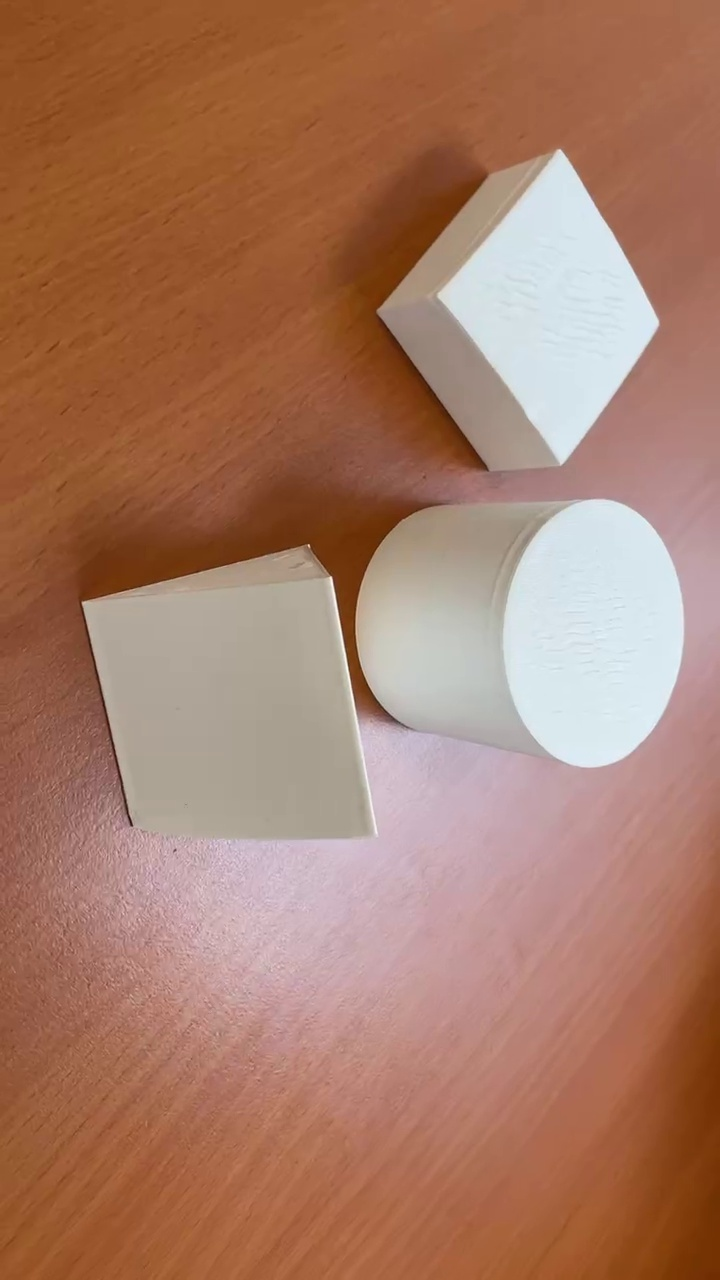Cube_short: (371, 149, 664, 471)
Cylinder: (352, 496, 686, 770)
Triangle: (75, 545, 383, 839)
